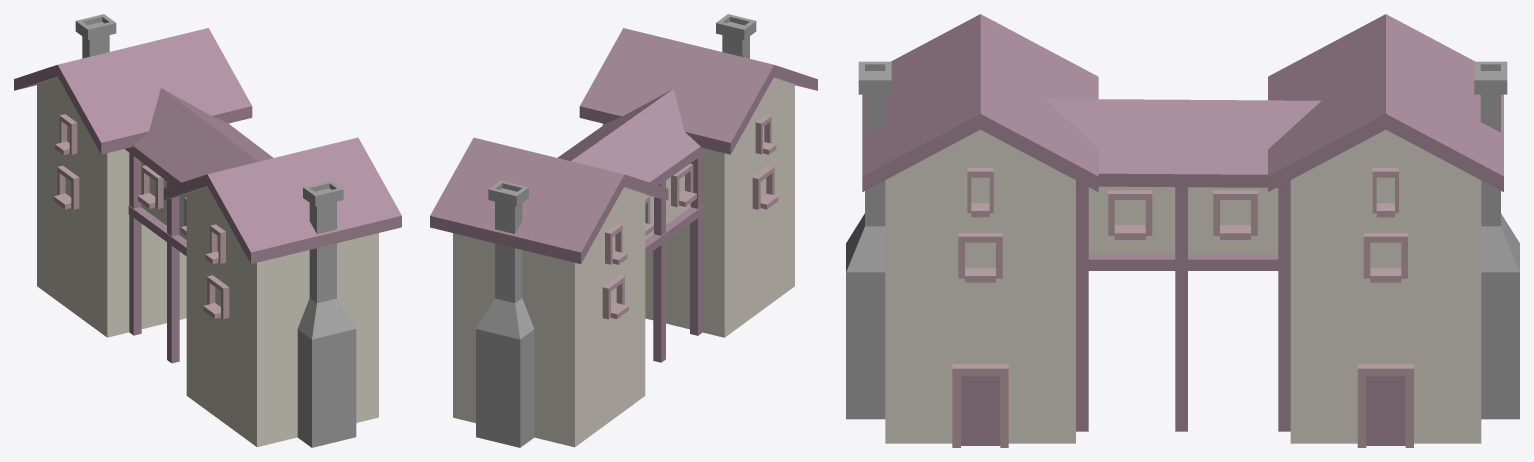
The model's file is SM_House_003.fbx.
3 renders of one model, left to right at view 1: azimuth 30°, elevation 25°; view 2: azimuth 150°, elevation 25°; view 3: azimuth 270°, elevation 25°, orthographic. The views are drawn at different scales.
Visible parts, largest first — view 1: SM_House_003; view 2: SM_House_003; view 3: SM_House_003.
Part boxes in pixels (x1,y1,x2,y2): SM_House_003: [14, 14, 401, 447]; SM_House_003: [430, 14, 817, 447]; SM_House_003: [846, 14, 1519, 447].
Bounding box in the file's own units: 585 × 928 × 1669.
